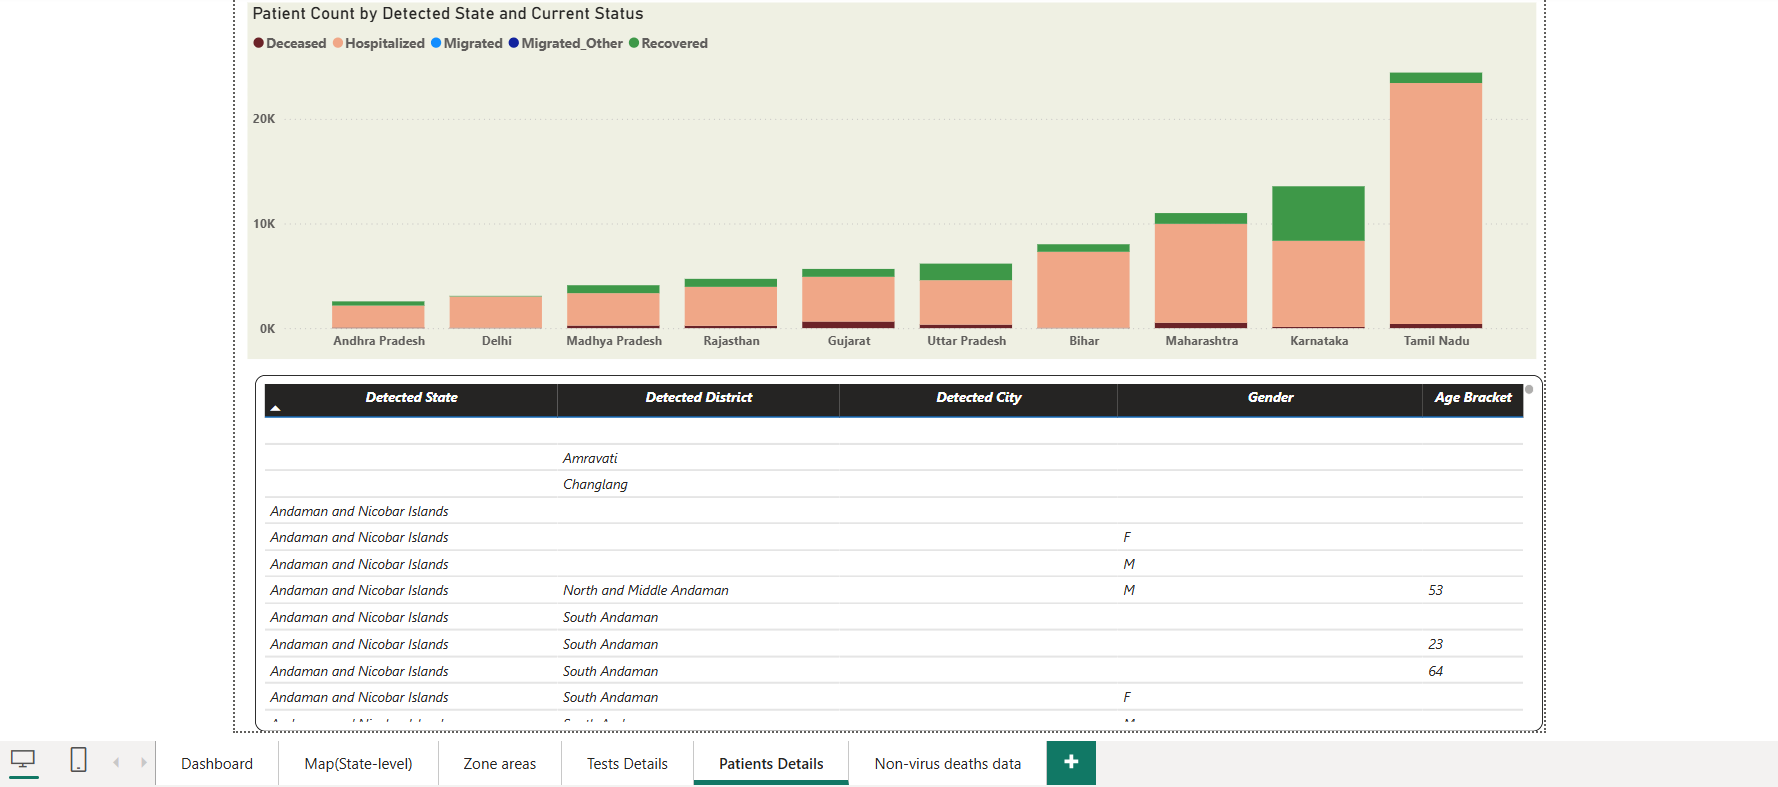

The dashboard page shown, as its layout file describes it:
{"tool":"powerbi","page":{"name":"Patients Details","canvas":[1280,720],"ordinal":4},"visuals":[{"type":"tableEx","fields":{"Values":["patient_data_2020.Detected State","patient_data_2020.Detected District","patient_data_2020.Detected City","patient_data_2020.Gender","patient_data_2020.Age Bracket"]},"box":[19.9,371.2,1260.1,348.4],"z":0},{"type":"columnChart","fields":{"Category":["patient_data_2020.Detected State"],"Y":["patient_data_2020.Patient Count"],"Series":["patient_data_2020.Current Status"]},"box":[12.2,7.3,1260.7,348.5],"z":1000}]}

Visuals, with their boxes on the page's 1280x720 design canvas (x1, y1, x2, y2). These are canvas units, not pixel positions in the 1778x787 screenshot, which may show the page scaled, cropped or inside an application window:
tableEx - patient_data_2020.Detected State x patient_data_2020.Detected District: box(20, 371, 1280, 720)
columnChart - patient_data_2020.Detected State x patient_data_2020.Patient Count: box(12, 7, 1273, 356)
